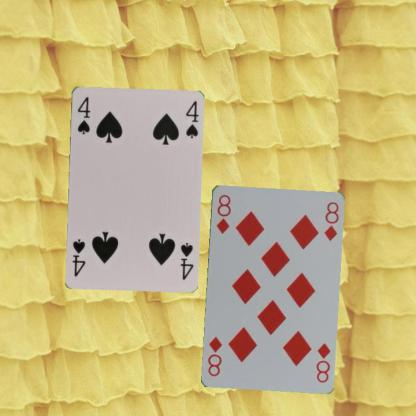4s: (177, 239, 195, 281), (74, 94, 92, 135)
8d: (213, 191, 232, 235), (313, 340, 331, 384)
